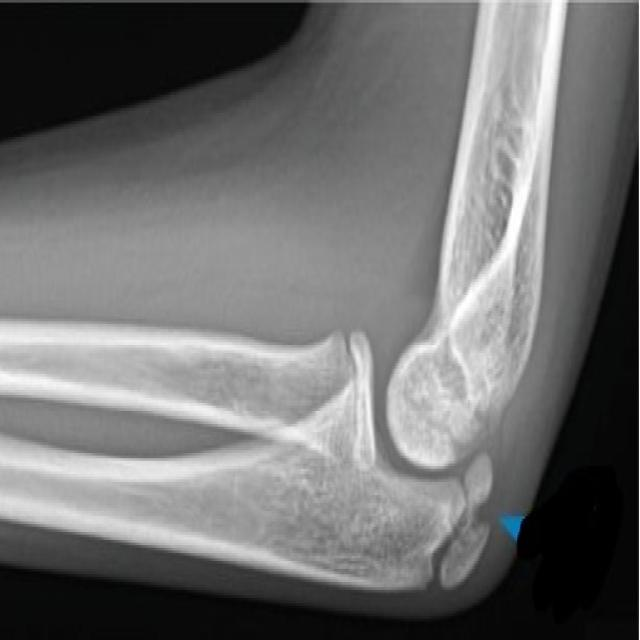Longitudinal: (408, 435, 499, 599)
